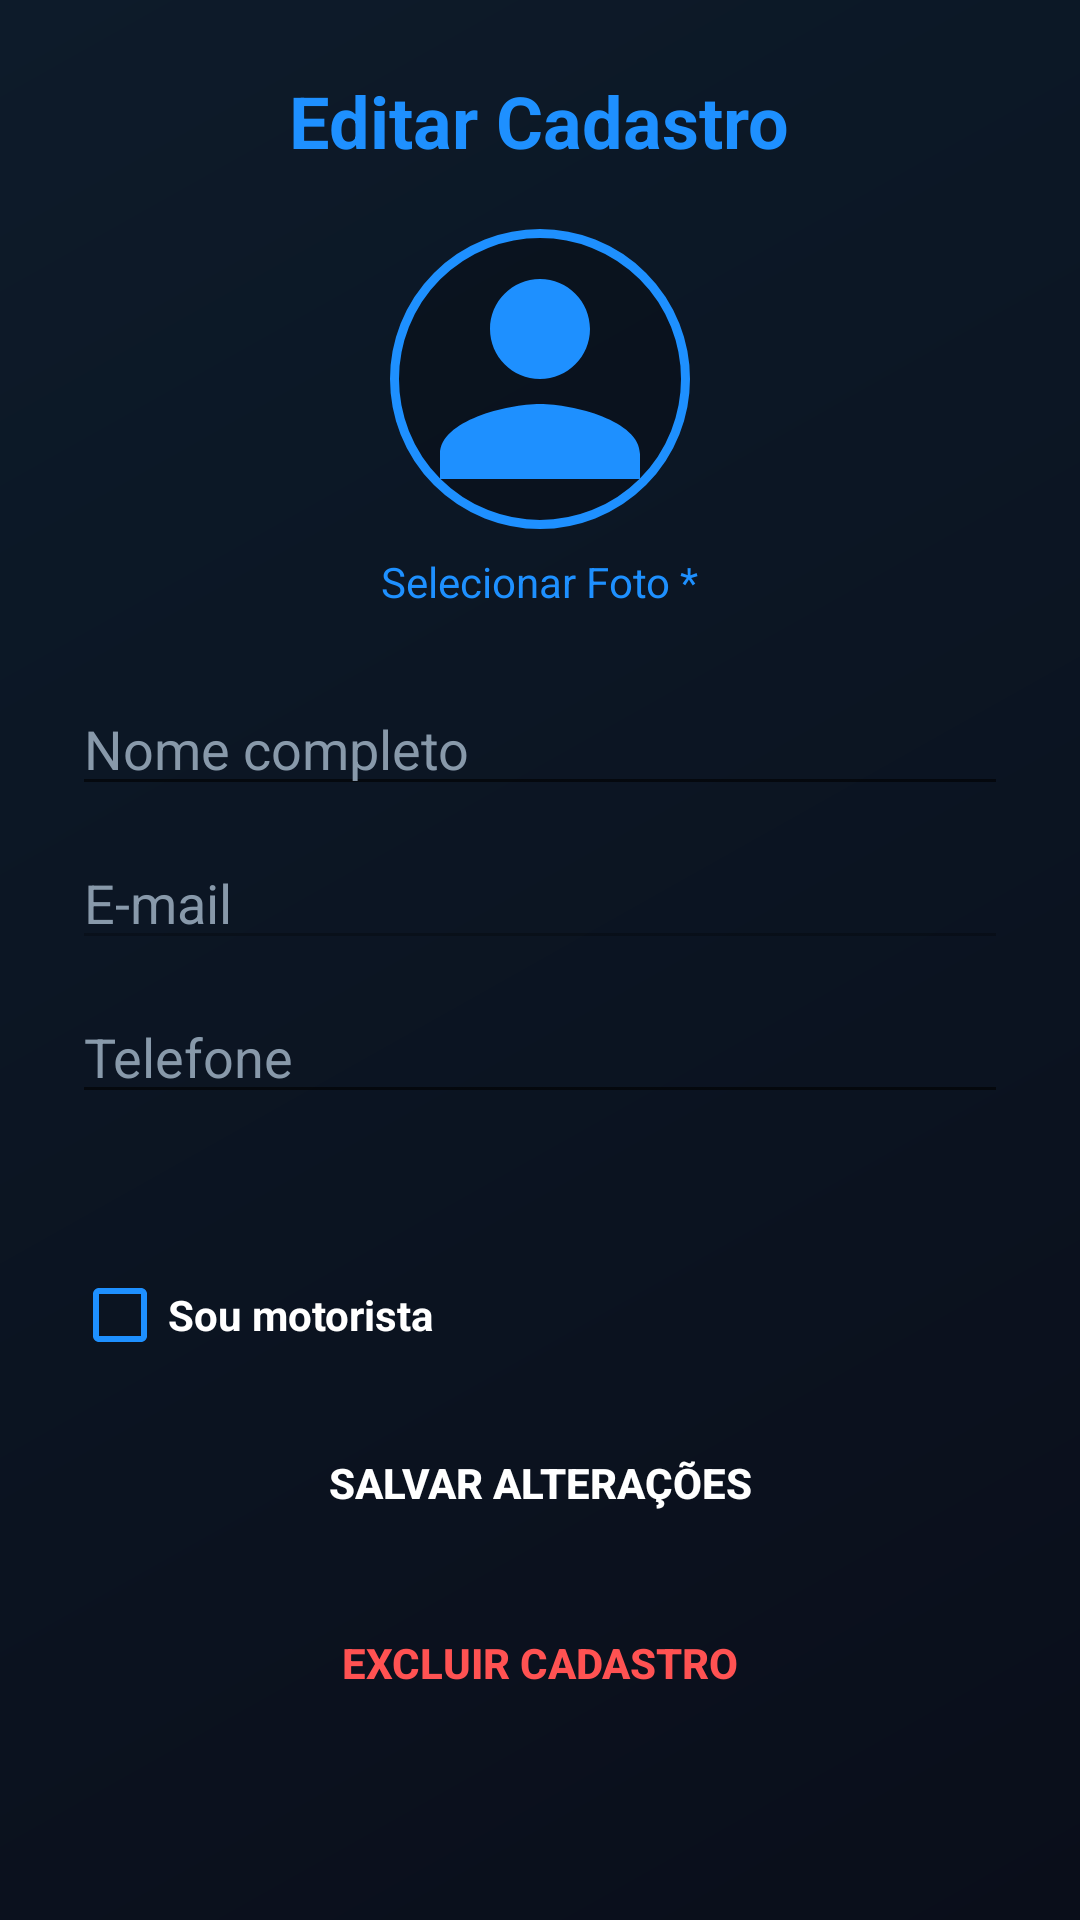

Screen size 1080*1920. Icon name, then its center in pixels as (x,y):
Foto de perfil: (540,379)
